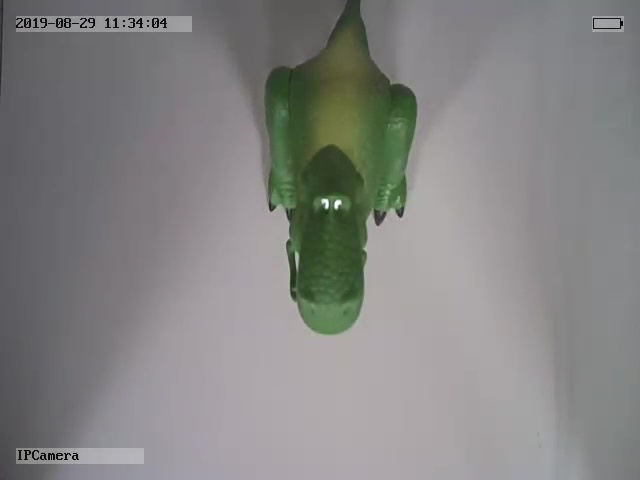rex: (261, 6, 421, 338)
